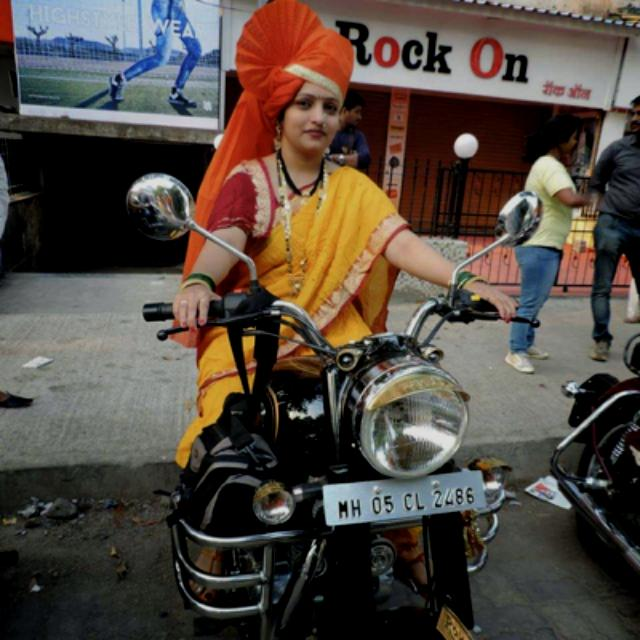Without Helmet: (237, 20, 371, 166)
